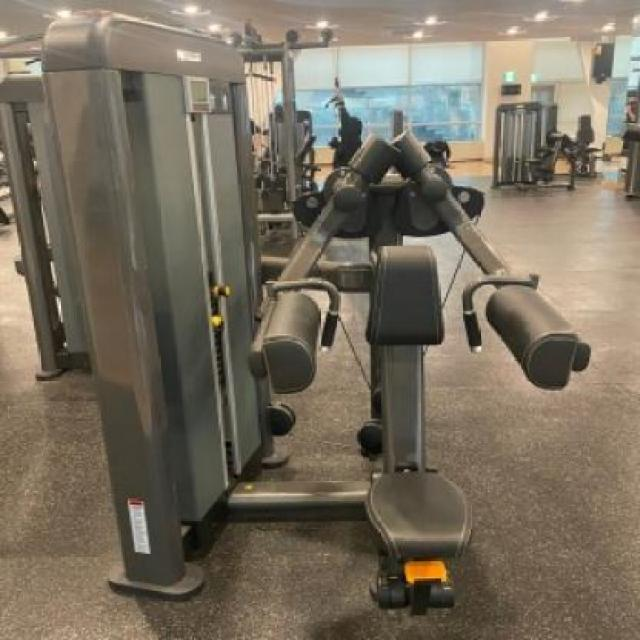lateral raises machine: (45, 131, 592, 614)
